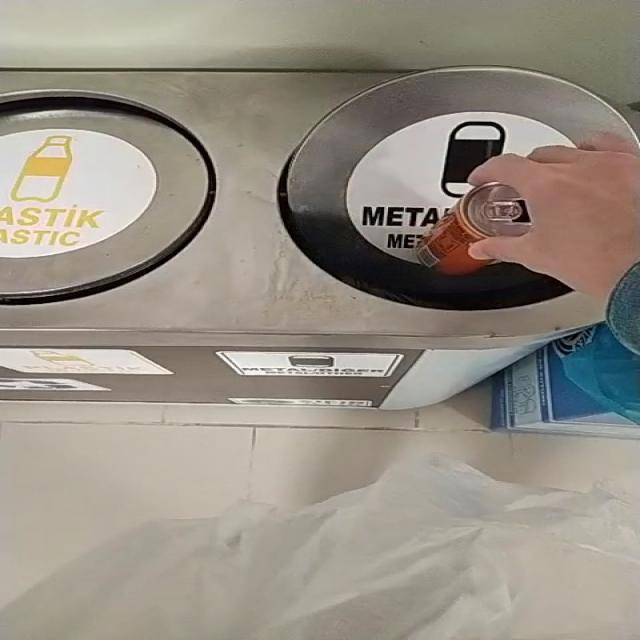bin: (0, 72, 603, 410)
metal: (416, 182, 532, 275)
